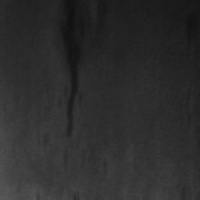inclusion: (54, 1, 88, 139), (180, 6, 197, 60), (92, 1, 110, 49)
